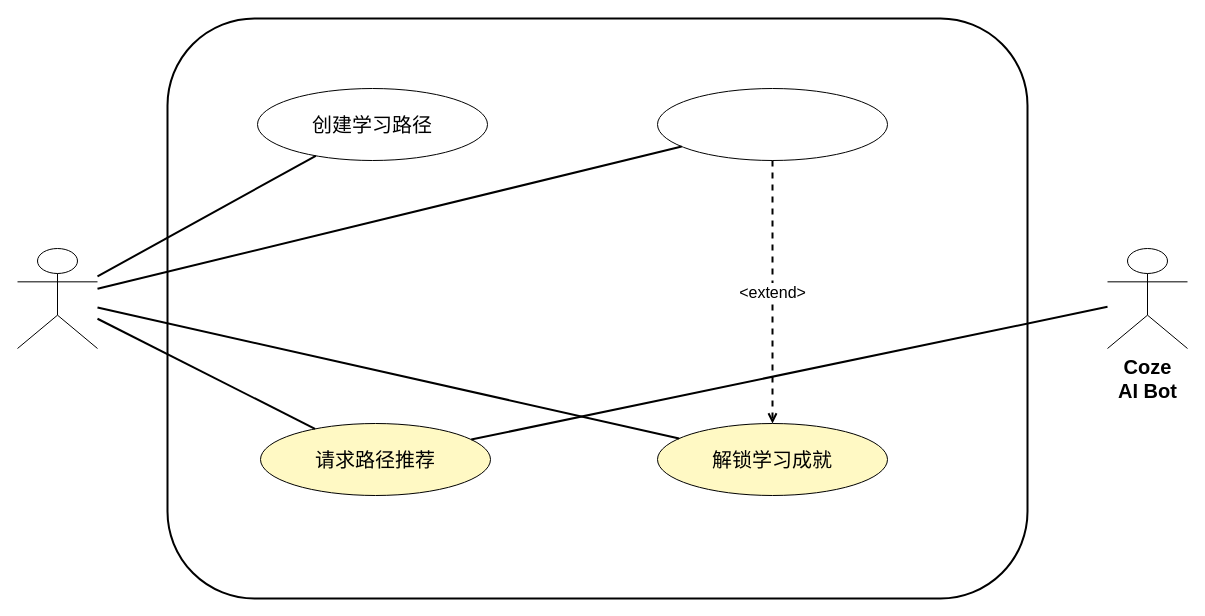
The diagram is 1205 pixels wide and 616 high, and some of its shapes have lost their labels. Each missing label, with the centre of its shape:
"学生用户" belongs at (57,298).
"推进学习步骤" belongs at (772,124).
